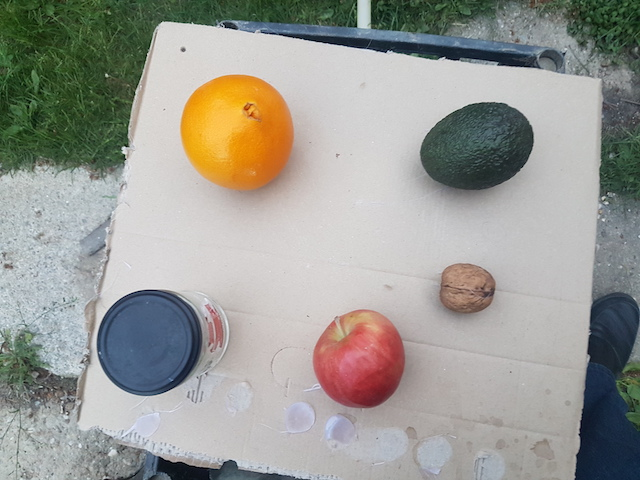apple: (312, 306, 405, 406)
avocado: (417, 97, 538, 190)
nut: (437, 260, 497, 317)
orange: (176, 74, 293, 192)
recipient: (92, 290, 197, 393)
